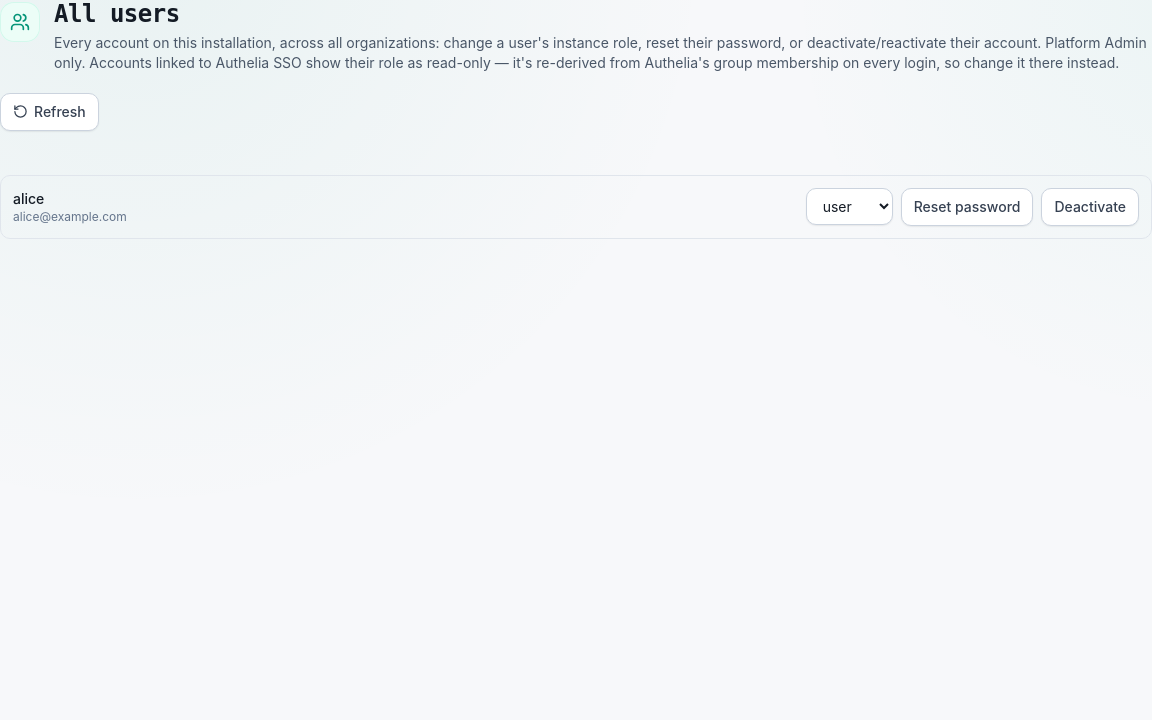
it: UsersPage › reset password (#1776) › sets an admin-chosen password, enforcing the length policy
The width and height of the screenshot is (1152, 720).
Expected: the text "alice" is shown, [13,190,44,207]
Click the button "Reset password" at (967, 207), box [901,188,1033,226]
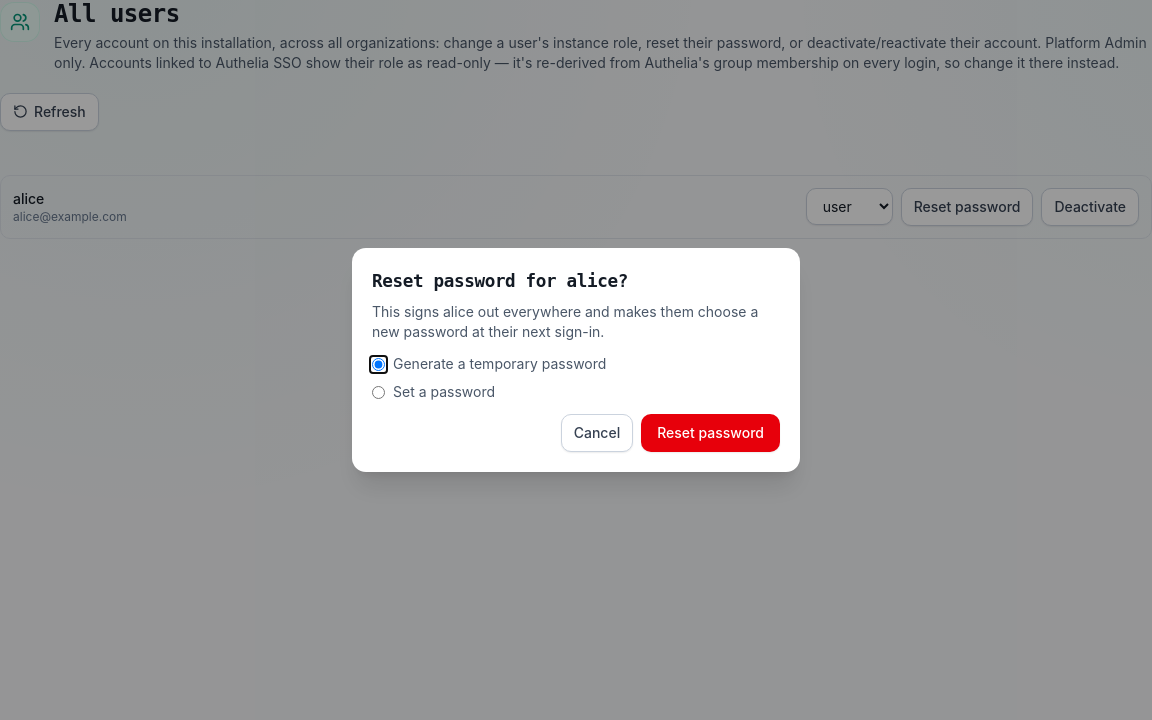
Click the radio button labelled "Set a password" at (378, 392), box [372,386,385,399]
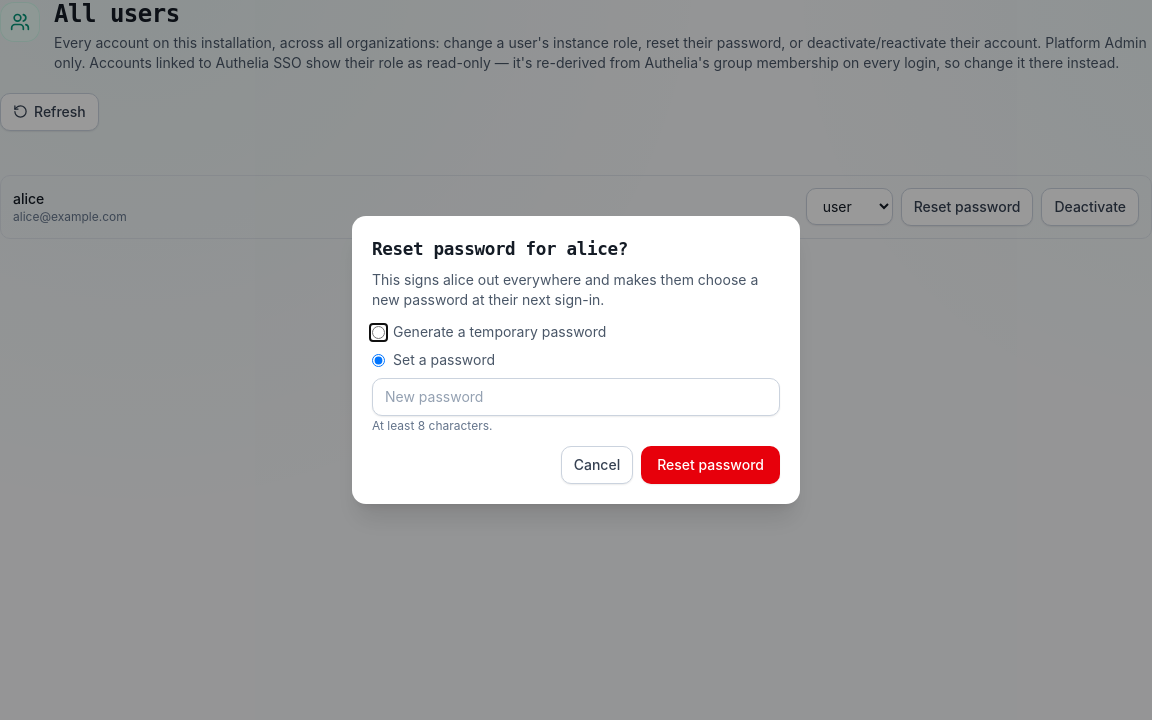
Type "short" into the password field named "New password for alice" at (576, 397), box [372,378,780,416]
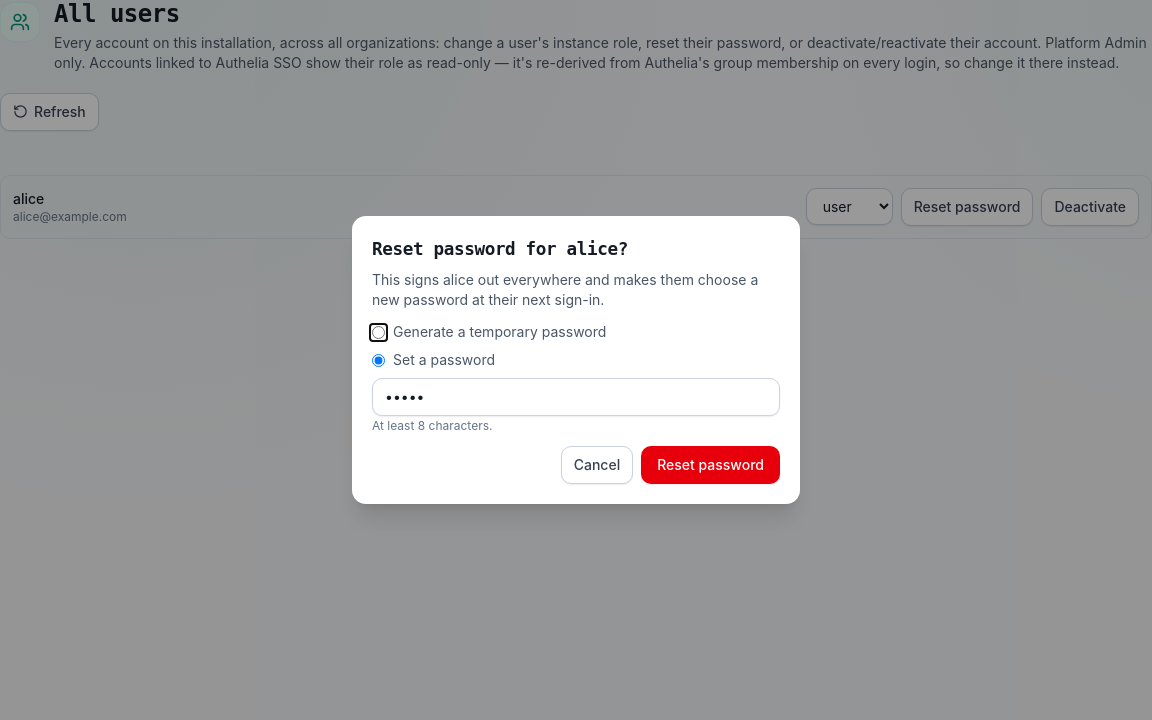
Click the button "Reset password" at (711, 465), box [641,446,780,484]
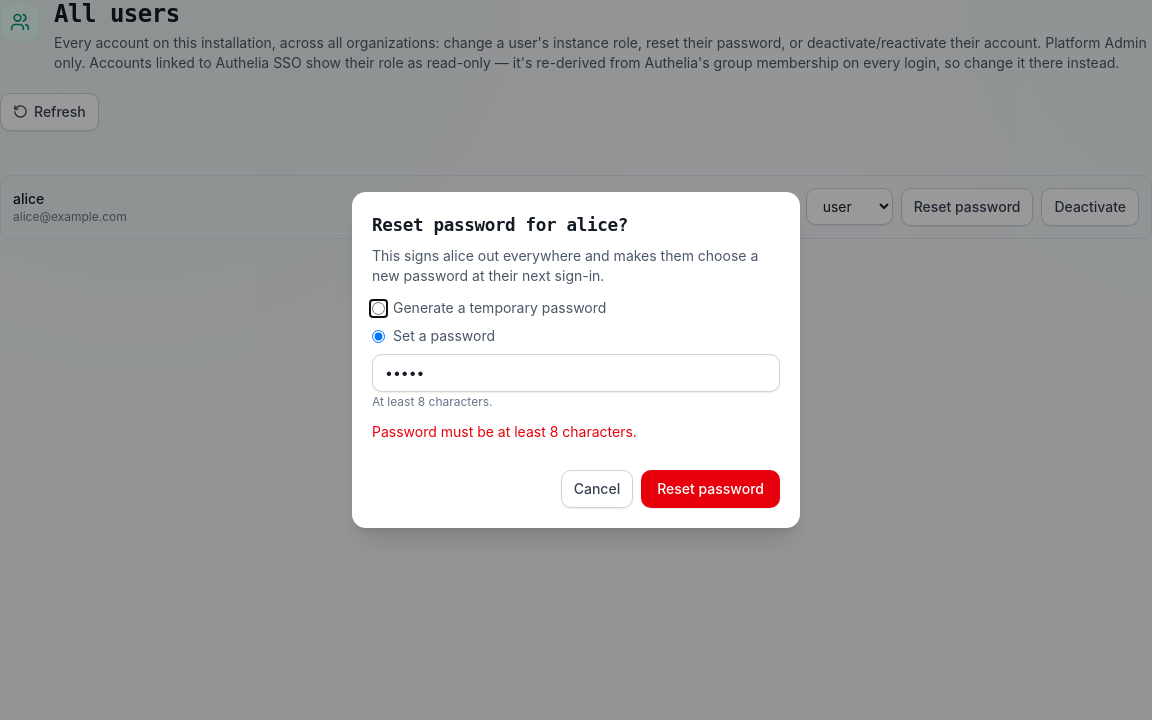
Now the text "Password must be at least 8 characters." is shown, box [372,423,637,440]
Type "admin-chosen-1" into the password field named "New password for alice" at (576, 373), box [372,354,780,392]
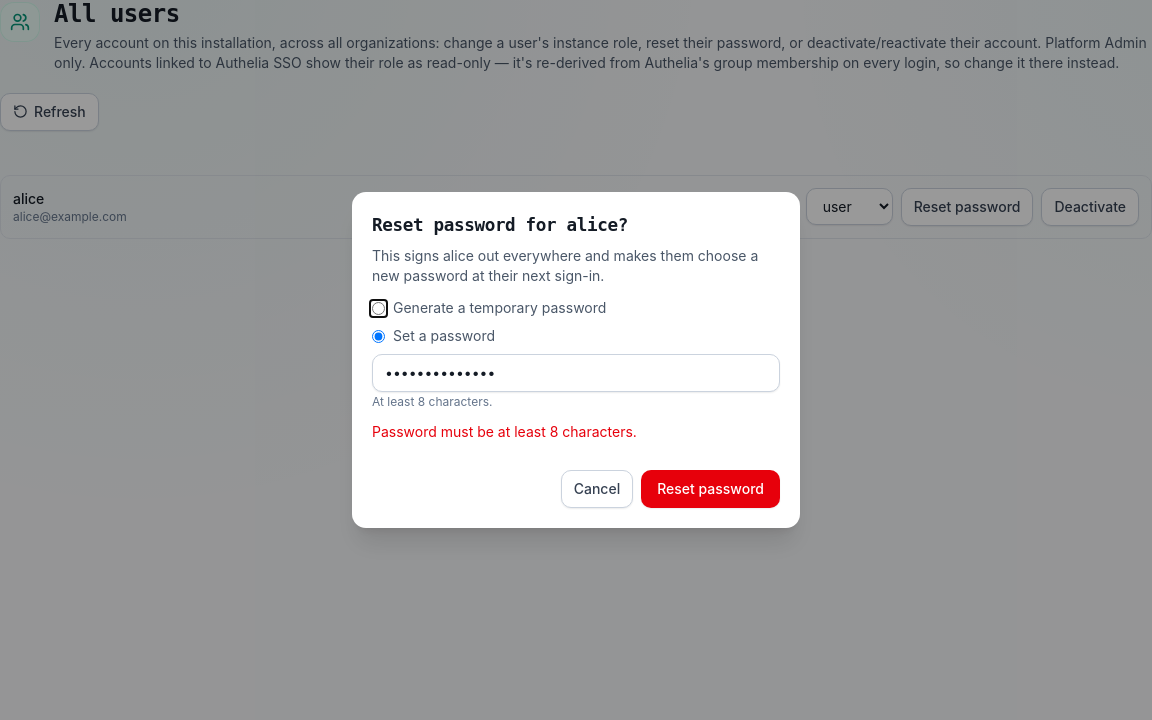
Click the button "Reset password" at (711, 489), box [641,470,780,508]
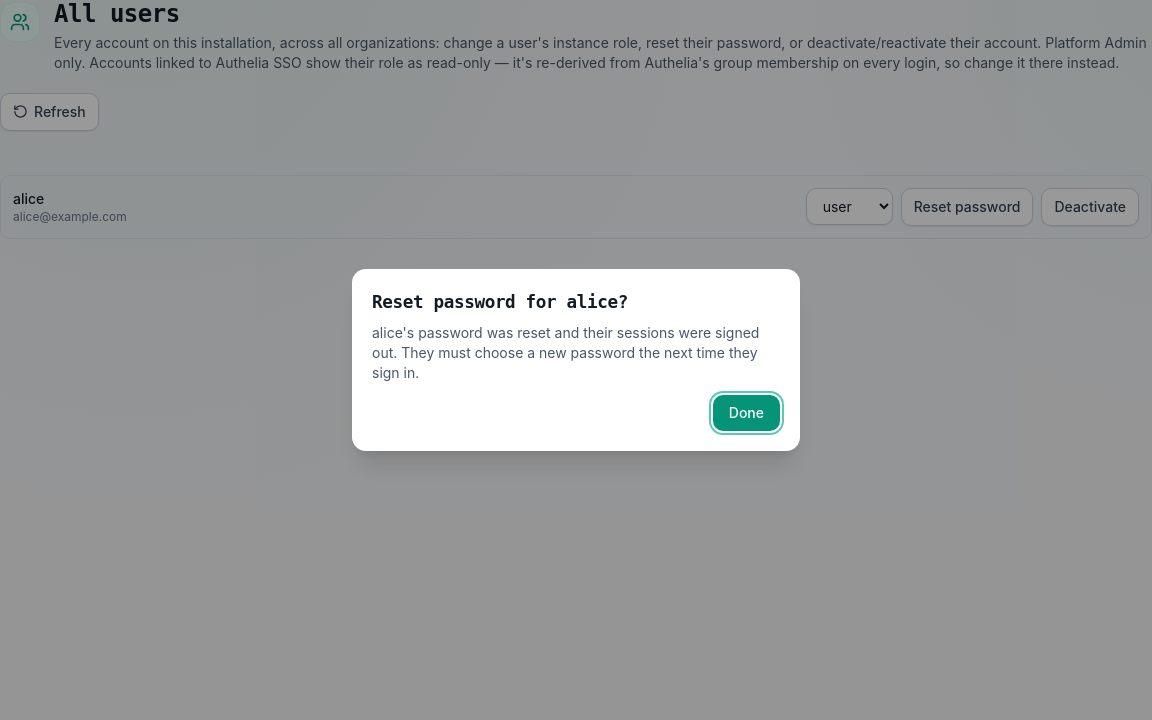
Now the text "was reset" is shown, box [372,324,759,381]
Now the label labelled "temporary password" is gone
